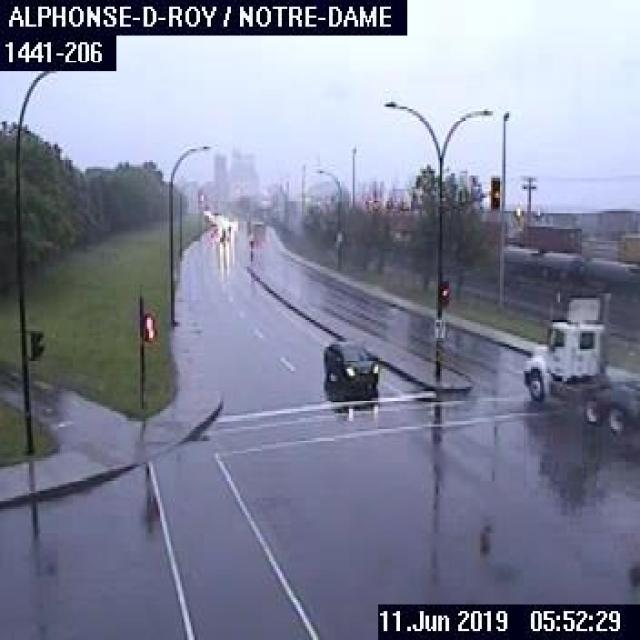vehicle: (520, 292, 638, 431), (320, 338, 381, 393)
